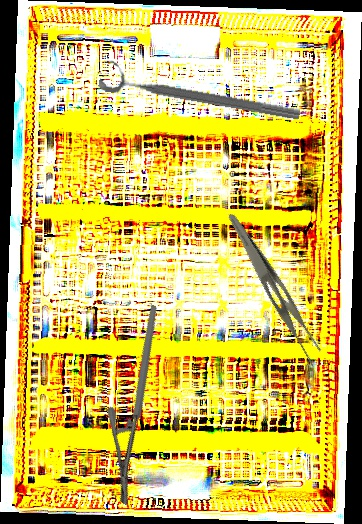Dressing Forceps: (211, 211, 334, 370)
Fixation Ring: (97, 57, 304, 126)
Needle Holder: (61, 303, 218, 507)
